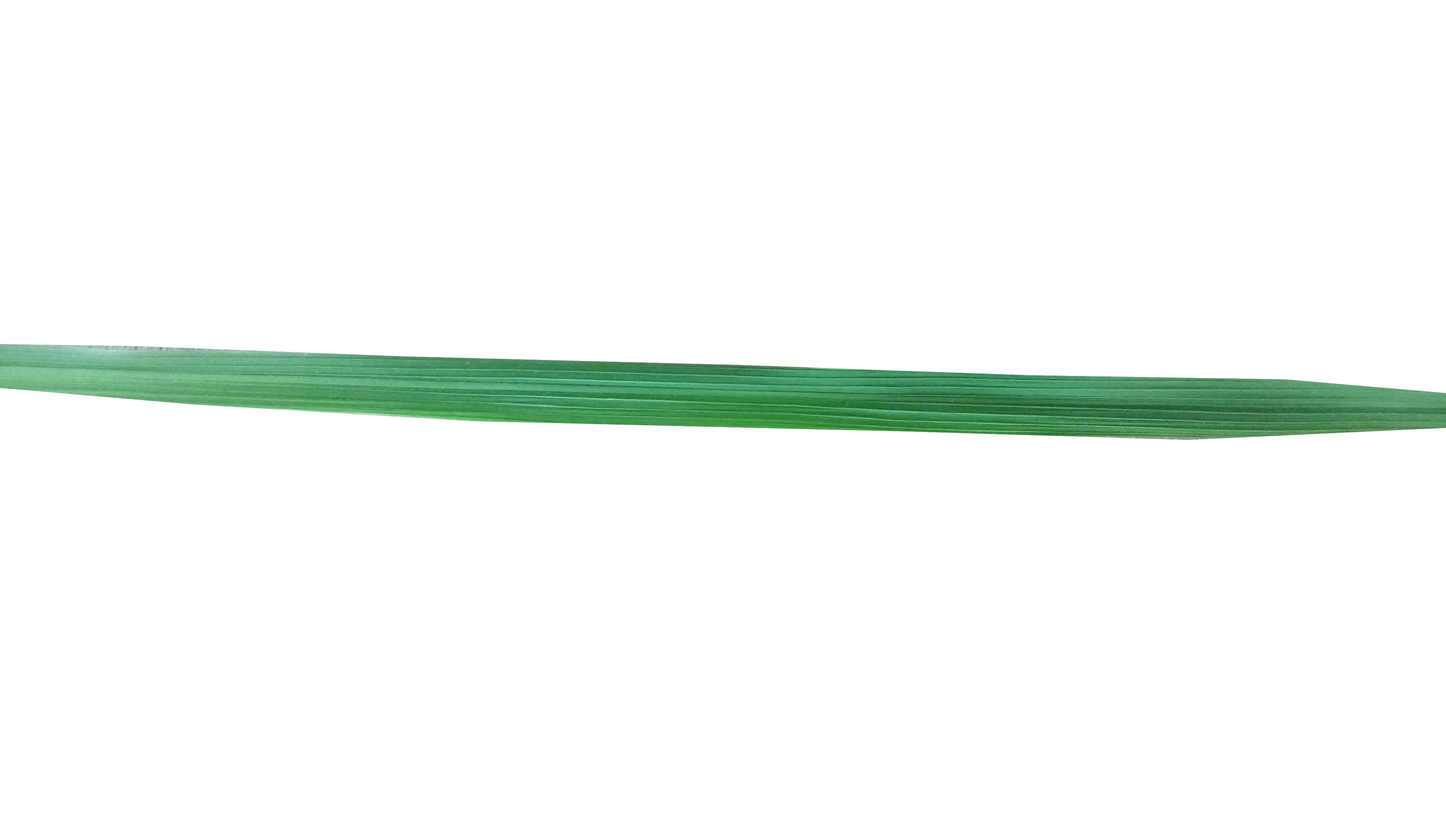Healthy: (0, 344, 1446, 442)
